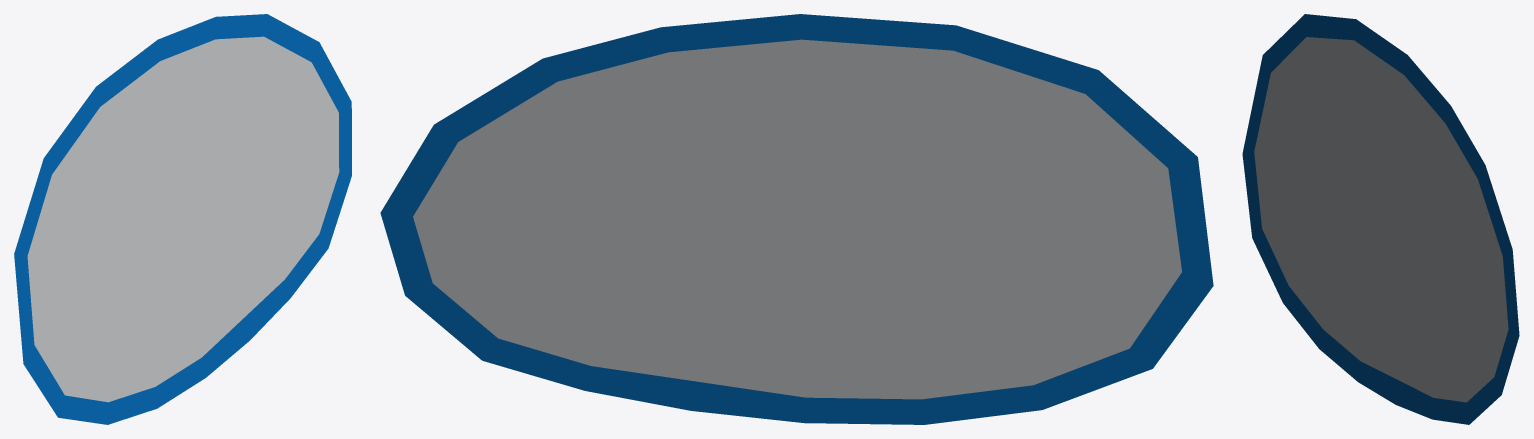
3 views of the same model, side by side, from view 1: azimuth 30°, elevation 25°; view 2: azimuth 150°, elevation 25°; view 3: azimuth 270°, elevation 25° (orthographic). The views are drawn at different scales.
Visible parts, largest first — view 1: Left Door; view 2: Left Door; view 3: Left Door.
Part boxes in pixels (x1,y1,x2,y2): Left Door: [14, 14, 351, 424]; Left Door: [380, 14, 1213, 424]; Left Door: [1242, 14, 1519, 424].
Bounding box in the file's own units: 15.89 × 10.49 × 8.32.
